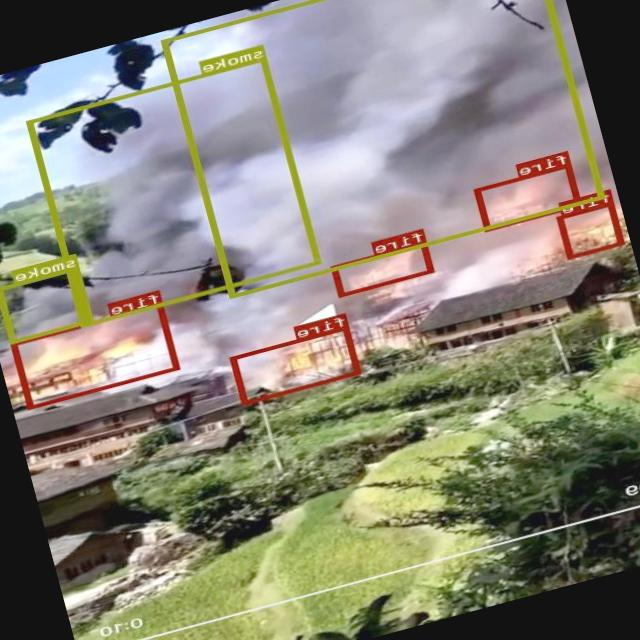fire: (12, 301, 182, 408), (230, 324, 362, 404), (474, 162, 583, 231), (332, 240, 436, 296), (558, 200, 626, 258)
smoke: (161, 0, 605, 297), (28, 55, 322, 326), (0, 264, 94, 342)
